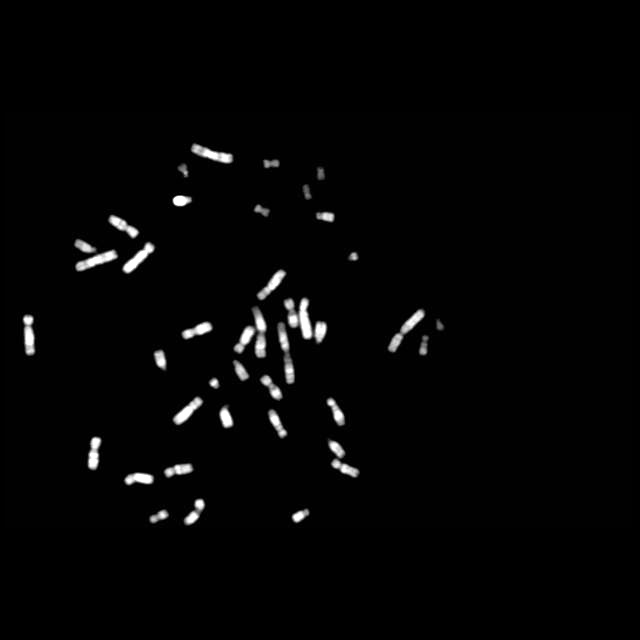chromosome: (388, 308, 424, 352), (122, 241, 156, 275), (277, 322, 295, 383), (76, 250, 120, 272), (172, 396, 204, 426), (191, 142, 233, 162), (258, 268, 284, 300), (252, 306, 268, 358), (109, 215, 139, 238), (268, 409, 288, 439), (23, 315, 37, 357), (233, 325, 254, 353), (300, 298, 314, 338), (331, 458, 359, 478), (182, 321, 212, 339), (260, 375, 282, 399), (327, 398, 345, 427), (185, 500, 205, 524), (88, 436, 102, 469), (284, 298, 298, 328), (74, 236, 96, 254), (164, 463, 192, 477), (125, 472, 153, 486), (154, 348, 170, 372), (220, 406, 236, 428), (233, 360, 249, 380), (329, 439, 345, 457), (292, 508, 310, 524), (150, 510, 170, 524), (314, 321, 326, 344), (254, 204, 272, 218), (172, 195, 192, 207), (314, 164, 326, 183), (178, 162, 190, 180), (316, 210, 334, 222), (264, 158, 280, 170), (419, 334, 428, 354), (302, 185, 312, 201), (348, 250, 358, 262), (210, 378, 220, 390), (436, 318, 444, 330)
